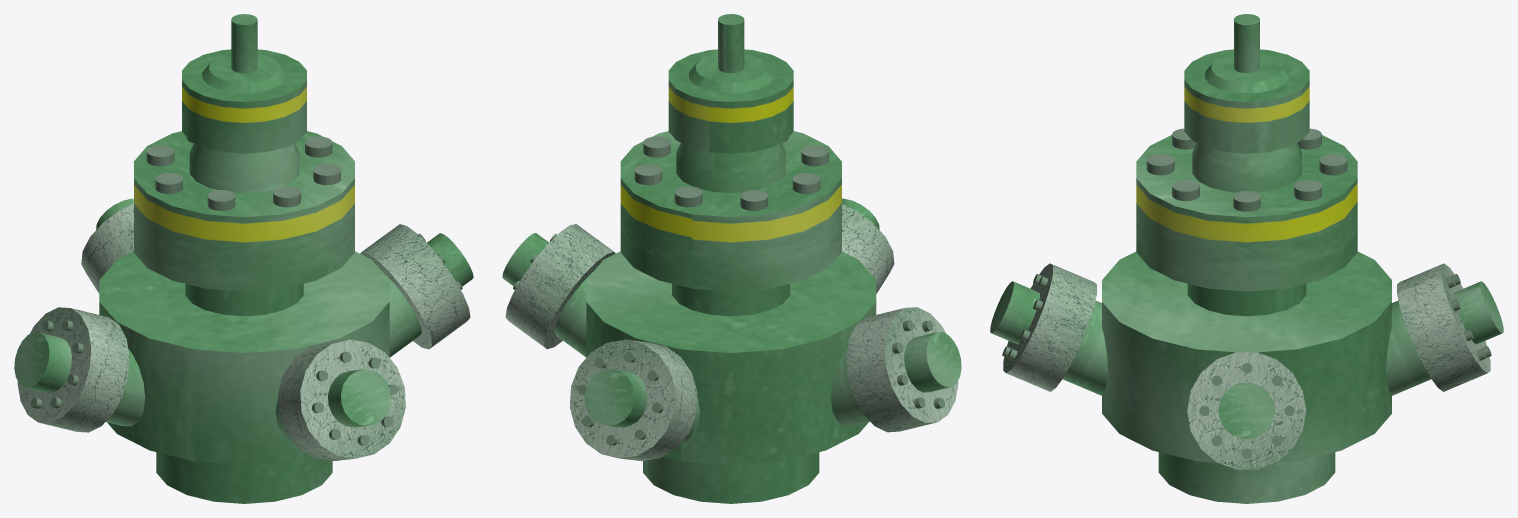
The model's file is Christmas_Tree_Top.FBX.
The picture shows the model from 3 angles, left to right: view 1: azimuth 30°, elevation 25°; view 2: azimuth 150°, elevation 25°; view 3: azimuth 270°, elevation 25°; orthographic projection.
Parts seen in each view (by area): view 1: Cylinder1342, Cylinder1344, Cylinder1346, Cylinder1382, Cylinder1402, Cylinder1404, Cylinder1341, Cylinder1345, Cylinder1392, Cylinder1403, Cylinder1343, Cylinder1350 (+11 smaller); view 2: Cylinder1342, Cylinder1344, Cylinder1346, Cylinder1350, Cylinder1402, Cylinder1404, Cylinder1341, Cylinder1345, Cylinder1351, Cylinder1403, Cylinder1343, Cylinder1382 (+11 smaller); view 3: Cylinder1342, Cylinder1344, Cylinder1346, Cylinder1404, Cylinder1350, Cylinder1382, Cylinder1341, Cylinder1345, Cylinder1343, Cylinder1414, Cylinder1383, Cylinder1349 (+4 smaller).
Part boxes in pixels (x1,y1,x2,y2): Cylinder1342: (99,251,389,464); Cylinder1344: (134,131,354,291); Cylinder1346: (182,49,306,153); Cylinder1382: (278,339,405,460); Cylinder1402: (17,307,129,432); Cylinder1404: (360,224,470,349); Cylinder1341: (156,452,332,503); Cylinder1345: (189,143,299,193); Cylinder1392: (328,369,391,427); Cylinder1403: (14,332,71,392); Cylinder1343: (185,283,303,316); Cylinder1350: (81,204,133,293); Cylinder1342: (586,251,876,464); Cylinder1344: (620,131,841,291); Cylinder1346: (668,49,793,153); Cylinder1350: (570,339,697,460); Cylinder1402: (846,307,958,432); Cylinder1404: (505,224,615,349); Cylinder1341: (643,452,819,503); Cylinder1345: (676,143,785,193); Cylinder1351: (584,369,647,427); Cylinder1403: (904,332,961,392); Cylinder1343: (672,283,790,316); Cylinder1382: (842,204,894,293); Cylinder1342: (1102,251,1391,462); Cylinder1344: (1136,135,1357,291); Cylinder1346: (1184,49,1309,153); Cylinder1404: (1187,352,1306,469); Cylinder1350: (1397,263,1490,391); Cylinder1382: (1003,263,1096,391); Cylinder1341: (1158,452,1335,503); Cylinder1345: (1192,142,1301,192); Cylinder1343: (1187,284,1306,316); Cylinder1414: (1218,383,1274,438); Cylinder1383: (1062,301,1107,395); Cylinder1349: (1386,301,1431,395).
Size of the model in its own units: 290 by 279 by 290.
1 material, 1 textured.
